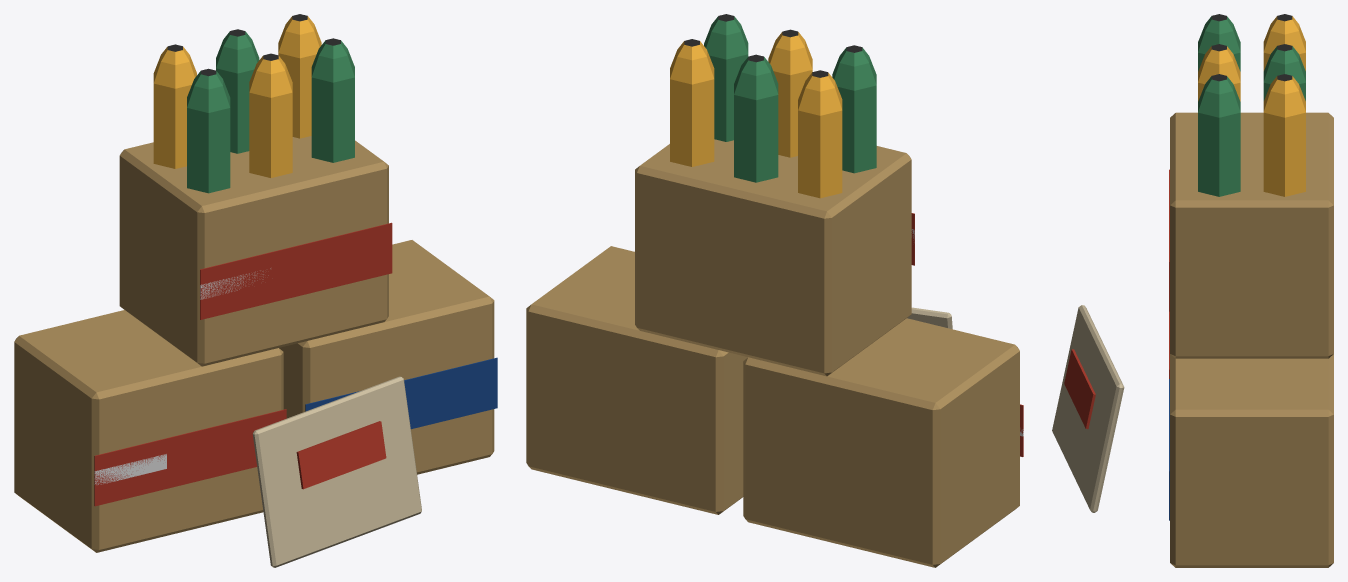
Rendered from hang_nhot.glb.
3 renders of one model, left to right at view 1: azimuth 30°, elevation 25°; view 2: azimuth 150°, elevation 25°; view 3: azimuth 270°, elevation 25°, orthographic. The views are drawn at different scales.
Visible parts, largest first — view 1: thung_carton, chai_nhot, bang_gia; view 2: thung_carton, chai_nhot, bang_gia; view 3: thung_carton, chai_nhot, bang_gia.
Part boxes in pixels (x1,y1,x2,y2): thung_carton: [14, 136, 497, 552]; chai_nhot: [153, 14, 354, 193]; bang_gia: [252, 376, 421, 567]; thung_carton: [526, 139, 1023, 567]; chai_nhot: [670, 14, 876, 198]; bang_gia: [907, 307, 952, 329]; thung_carton: [1169, 112, 1333, 567]; chai_nhot: [1198, 14, 1305, 196]; bang_gia: [1052, 305, 1124, 512].
Size of the model in its own units: 0.84 by 0.86 by 0.5163.
